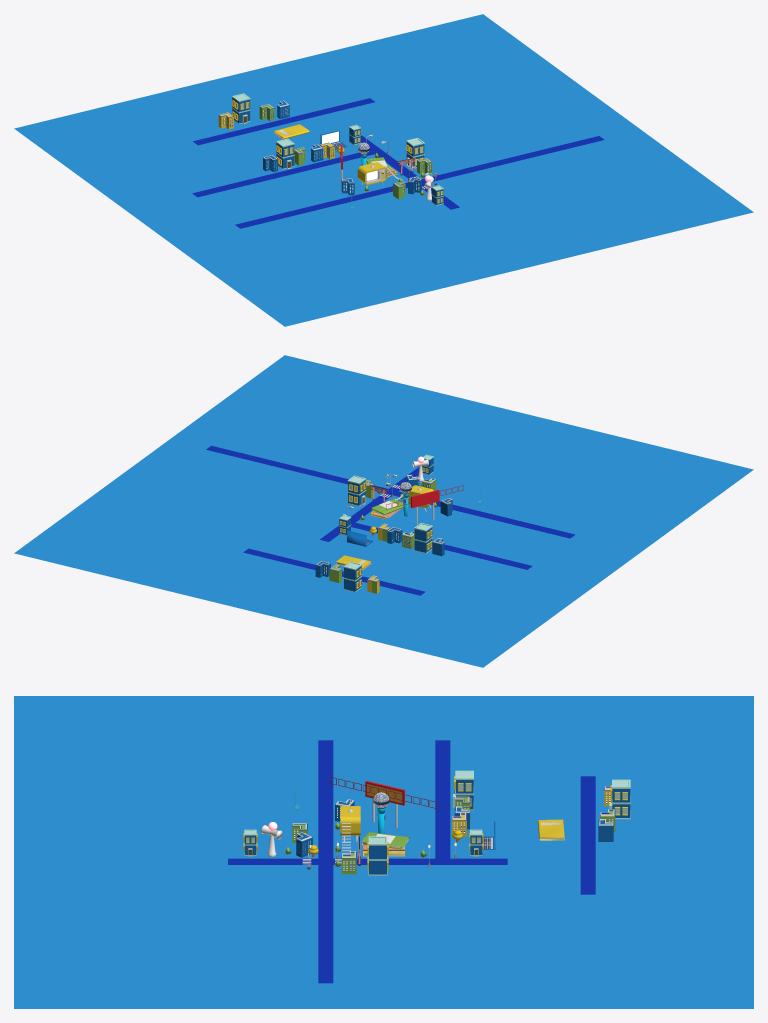
File: poster.glb
The picture shows the model from 3 angles, top to bottom: view 1: azimuth 30°, elevation 25°; view 2: azimuth 150°, elevation 25°; view 3: azimuth 270°, elevation 25°; orthographic projection. The views are drawn at different scales.
Parts seen in each view (by area): view 1: 平面, 道路(横).002, 道路(横).005, 道路(横).001, 道路(横).004, 道路(横).003, トーラス.001, 立方体.007, 立方体.003; view 2: 平面, 道路(横).005, 道路(横).004, 道路(横).002, 道路(横).003, 道路(横).001, 立方体.003, 立方体.007, 立方体.006; view 3: 平面, 道路(横).001, 道路(横).002, 道路(横).004, 道路(横).005, 道路(横).003, 立方体.006, 立方体.007, 円柱.002, トーラス.001, 立方体.003, Cube.012.
Part boxes in pixels (x1=…): 平面: x1=14, y1=14, x2=753, y2=326; 道路(横).002: x1=193, y1=98, x2=374, y2=145; 道路(横).005: x1=422, y1=136, x2=604, y2=182; 道路(横).001: x1=192, y1=150, x2=374, y2=197; 道路(横).004: x1=235, y1=182, x2=407, y2=228; 道路(横).003: x1=348, y1=134, x2=459, y2=209; トーラス.001: x1=357, y1=158, x2=387, y2=186; 立方体.007: x1=232, y1=93, x2=250, y2=124; 立方体.003: x1=276, y1=138, x2=294, y2=169; 平面: x1=14, y1=355, x2=753, y2=667; 道路(横).005: x1=206, y1=445, x2=388, y2=492; 道路(横).004: x1=393, y1=491, x2=575, y2=538; 道路(横).002: x1=243, y1=548, x2=425, y2=595; 道路(横).003: x1=320, y1=467, x2=419, y2=541; 道路(横).001: x1=351, y1=522, x2=532, y2=569; 立方体.003: x1=414, y1=523, x2=432, y2=553; 立方体.007: x1=343, y1=561, x2=362, y2=592; 立方体.006: x1=347, y1=475, x2=366, y2=506; 平面: x1=14, y1=696, x2=753, y2=1008; 道路(横).001: x1=435, y1=740, x2=450, y2=858; 道路(横).002: x1=580, y1=776, x2=595, y2=894; 道路(横).004: x1=318, y1=740, x2=333, y2=858; 道路(横).005: x1=318, y1=865, x2=333, y2=983; 道路(横).003: x1=228, y1=858, x2=507, y2=864; 立方体.006: x1=367, y1=836, x2=388, y2=875; 立方体.007: x1=609, y1=779, x2=630, y2=819; 円柱.002: x1=365, y1=781, x2=404, y2=827; トーラス.001: x1=340, y1=800, x2=360, y2=841; 立方体.003: x1=453, y1=770, x2=473, y2=810; Cube.012: x1=537, y1=819, x2=564, y2=840.
Bounding box in the file's own units: 27.47 × 2.91 × 27.47.
